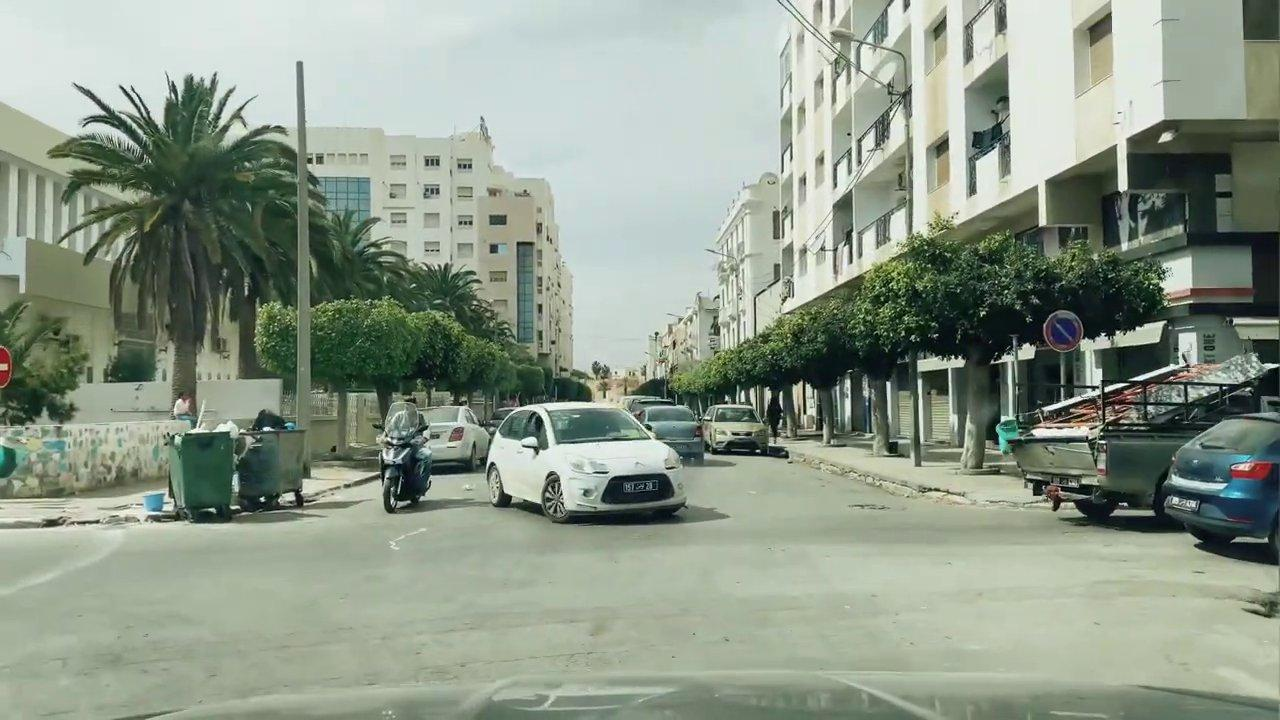no entry: (0, 342, 14, 392)
no parking: (1042, 309, 1083, 353)
